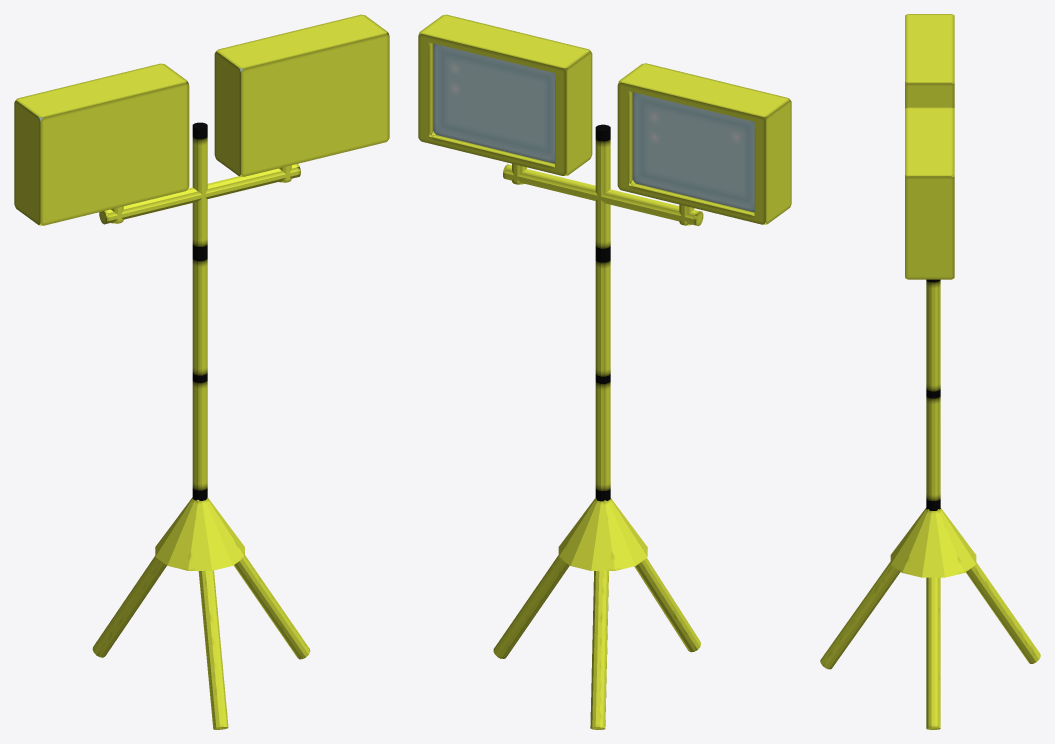
File: Lights.fbx
The picture shows the model from 3 angles, left to right: view 1: azimuth 30°, elevation 25°; view 2: azimuth 150°, elevation 25°; view 3: azimuth 270°, elevation 25°; orthographic projection. The views are drawn at different scales.
Parts seen in each view (by area): view 1: cuboid; view 2: cuboid; view 3: cuboid.
Part boxes in pixels (x1,y1,x2,y2): cuboid: (14,14,389,729); cuboid: (418,14,791,729); cuboid: (820,14,1040,729).
Bounding box in the file's own units: 338 × 571 × 194.
Materials: 1 (1 with a texture image).
